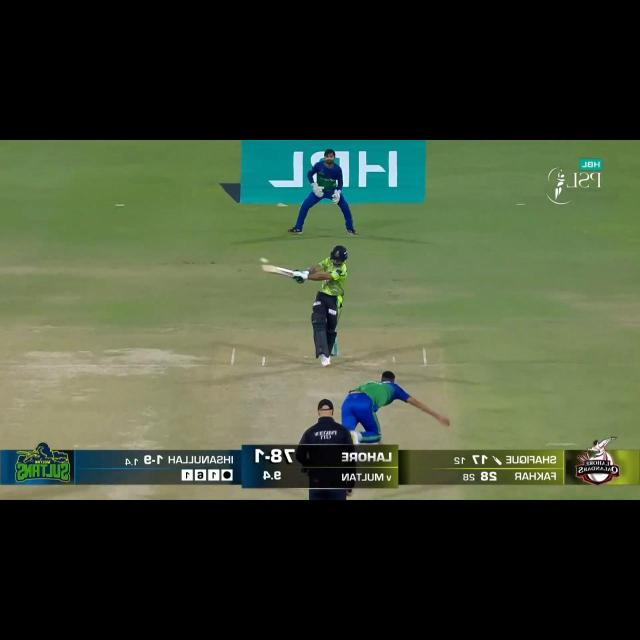bat: (261, 263, 294, 279)
toe: (259, 263, 274, 273)
